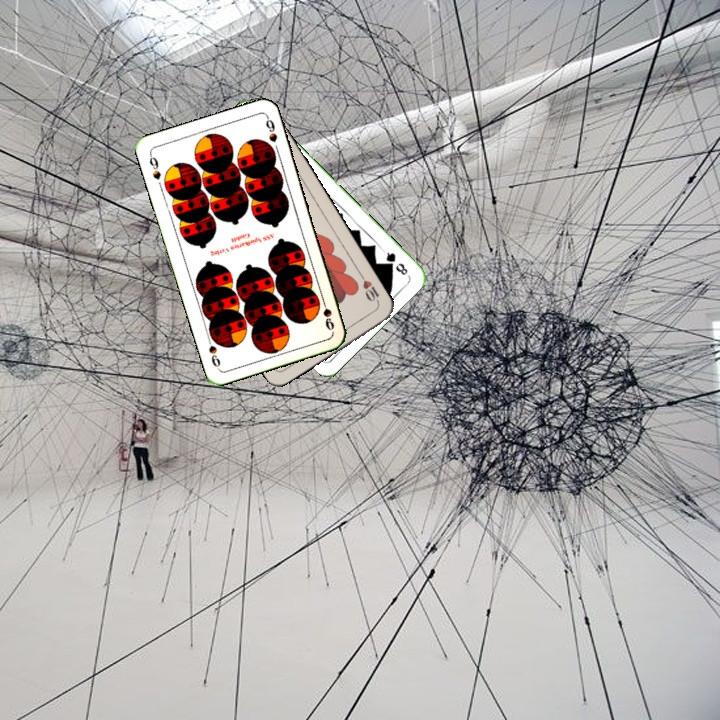G8: (379, 246, 410, 278)
H10: (356, 271, 382, 308)
S9: (317, 293, 337, 333), (145, 150, 164, 182)
